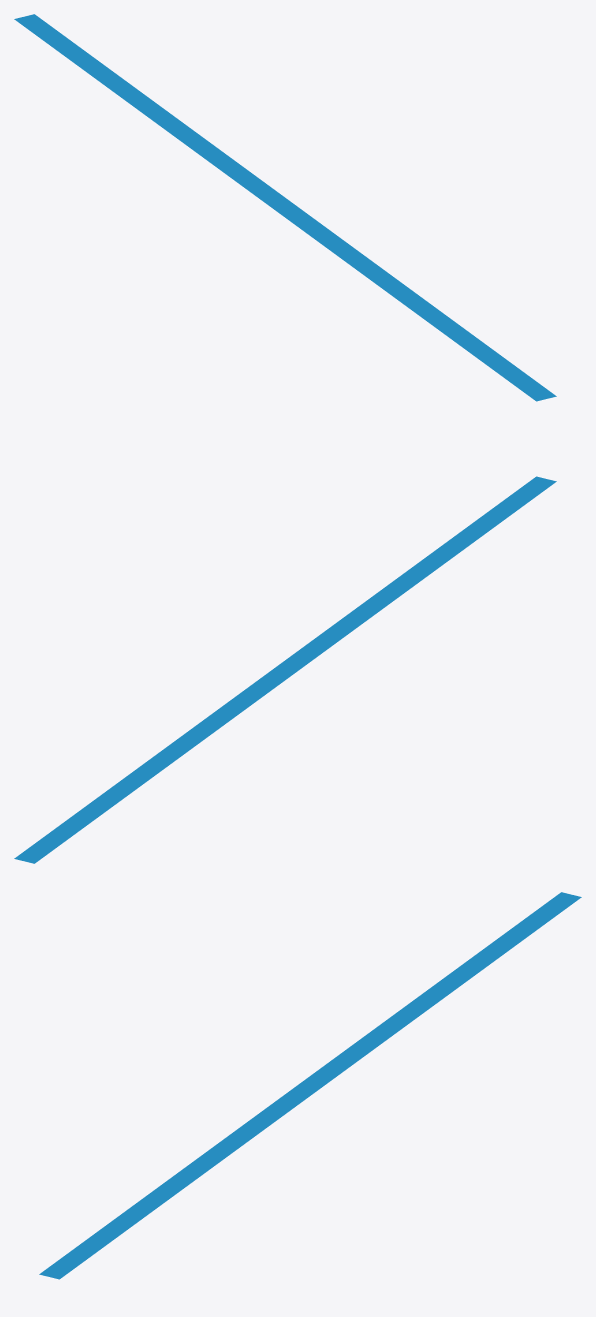
Rendered from guide.glb.
3 renders of one model, top to bottom at view 1: azimuth 30°, elevation 25°; view 2: azimuth 150°, elevation 25°; view 3: azimuth 330°, elevation 25°, orthographic.
Visible parts, largest first — view 1: static; view 2: static; view 3: static.
Boxes of the visible parts, <box> form: static: <box>14,14,556,401</box>; static: <box>14,476,556,863</box>; static: <box>39,892,581,1279</box>.
Bounding box in the file's own units: 1 × 0 × 15.
